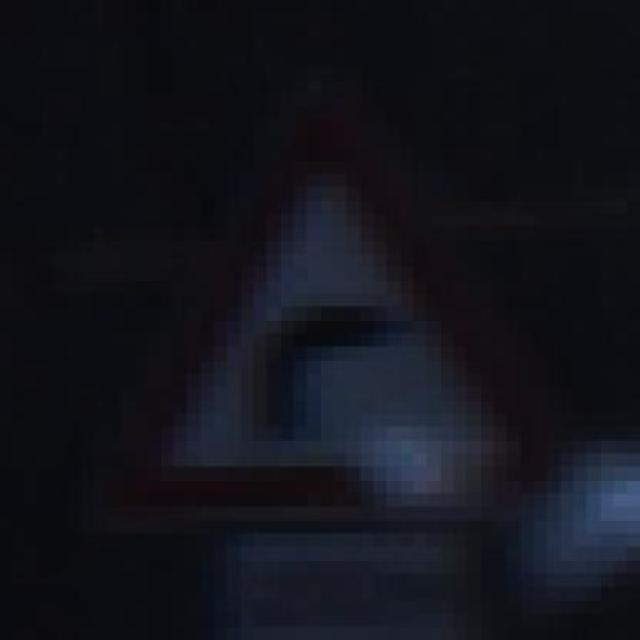Dangerous Rright Curve Ahead: (93, 120, 561, 520)
